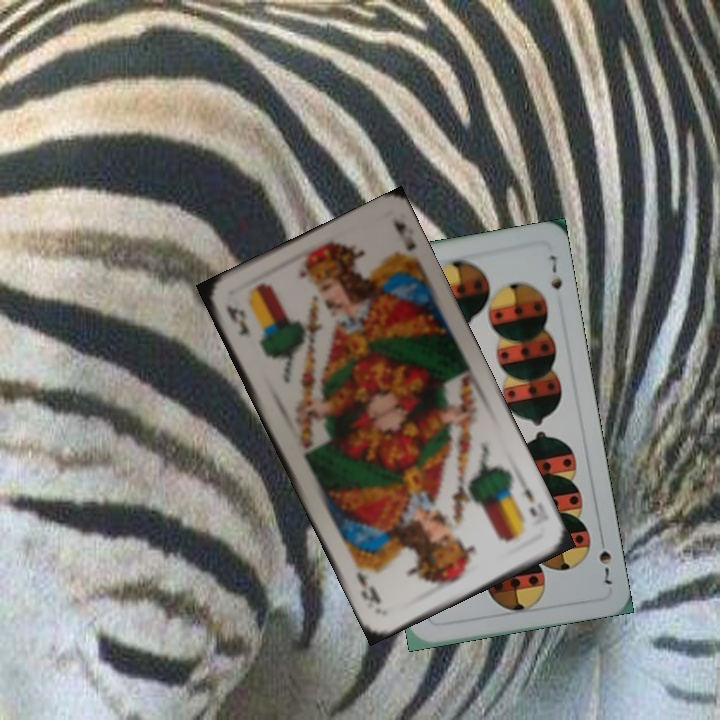EK: (222, 301, 254, 340), (516, 476, 539, 520)
S7: (595, 531, 614, 587)
